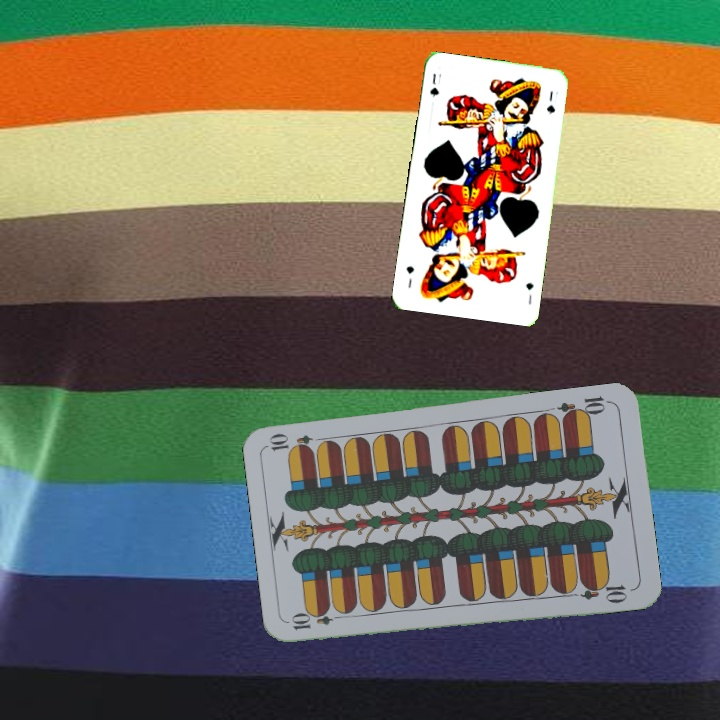E10: (554, 392, 613, 423), (287, 609, 347, 633)
GU: (426, 69, 441, 100), (522, 278, 536, 307)
